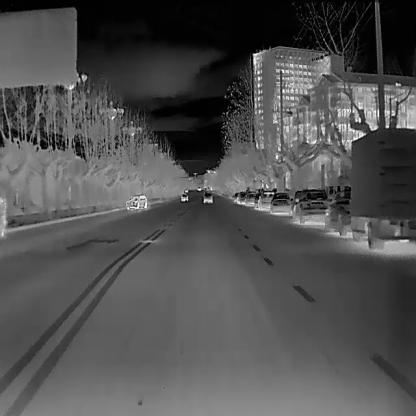car: (292, 188, 330, 224), (325, 192, 350, 235), (270, 191, 292, 217), (256, 189, 272, 212), (125, 194, 147, 209), (242, 190, 257, 206), (235, 189, 248, 204), (203, 192, 212, 203), (179, 191, 188, 201)
truck: (349, 126, 415, 251)
